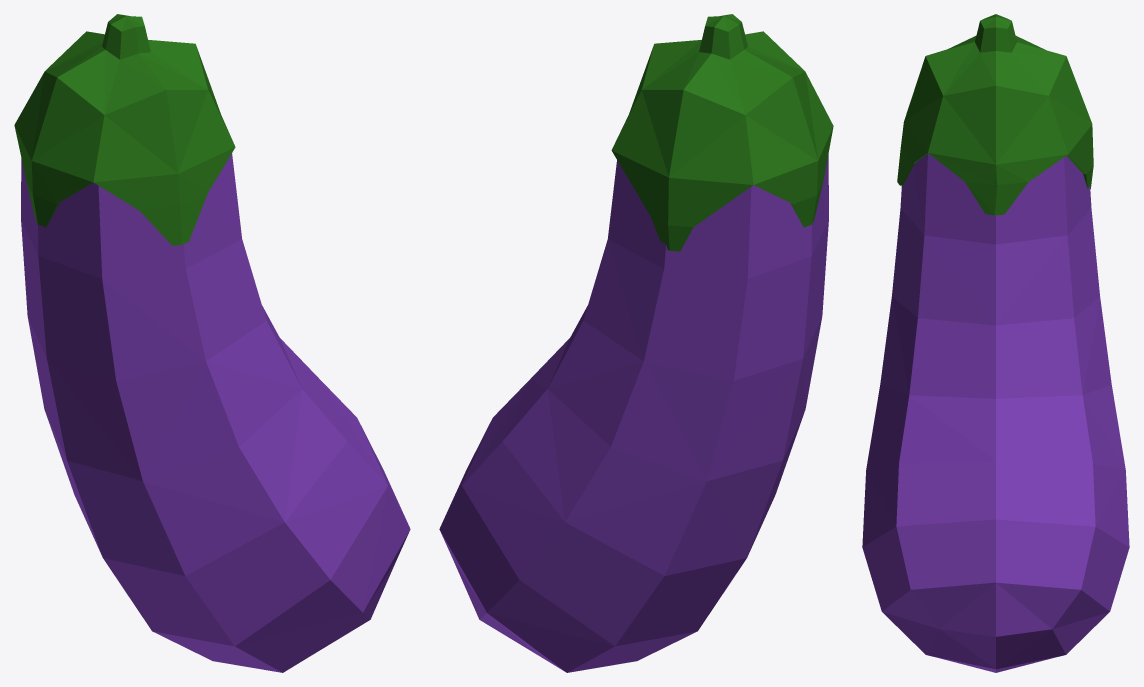
Rendered from Eggplant.obj.
3 views of the same model, side by side, from view 1: azimuth 30°, elevation 25°; view 2: azimuth 150°, elevation 25°; view 3: azimuth 270°, elevation 25° (orthographic). The views are drawn at different scales.
Visible parts, largest first — view 1: Eggplant_Purple, Eggplant_DarkGreen; view 2: Eggplant_Purple, Eggplant_DarkGreen; view 3: Eggplant_Purple, Eggplant_DarkGreen.
Part boxes in pixels (bbox=[...]): Eggplant_Purple: bbox=[21, 153, 410, 672]; Eggplant_DarkGreen: bbox=[14, 14, 235, 245]; Eggplant_Purple: bbox=[439, 154, 828, 672]; Eggplant_DarkGreen: bbox=[611, 14, 833, 251]; Eggplant_Purple: bbox=[862, 153, 1129, 672]; Eggplant_DarkGreen: bbox=[897, 14, 1093, 215].
Bounding box in the file's own units: 0.9622 × 1.75 × 0.718.
